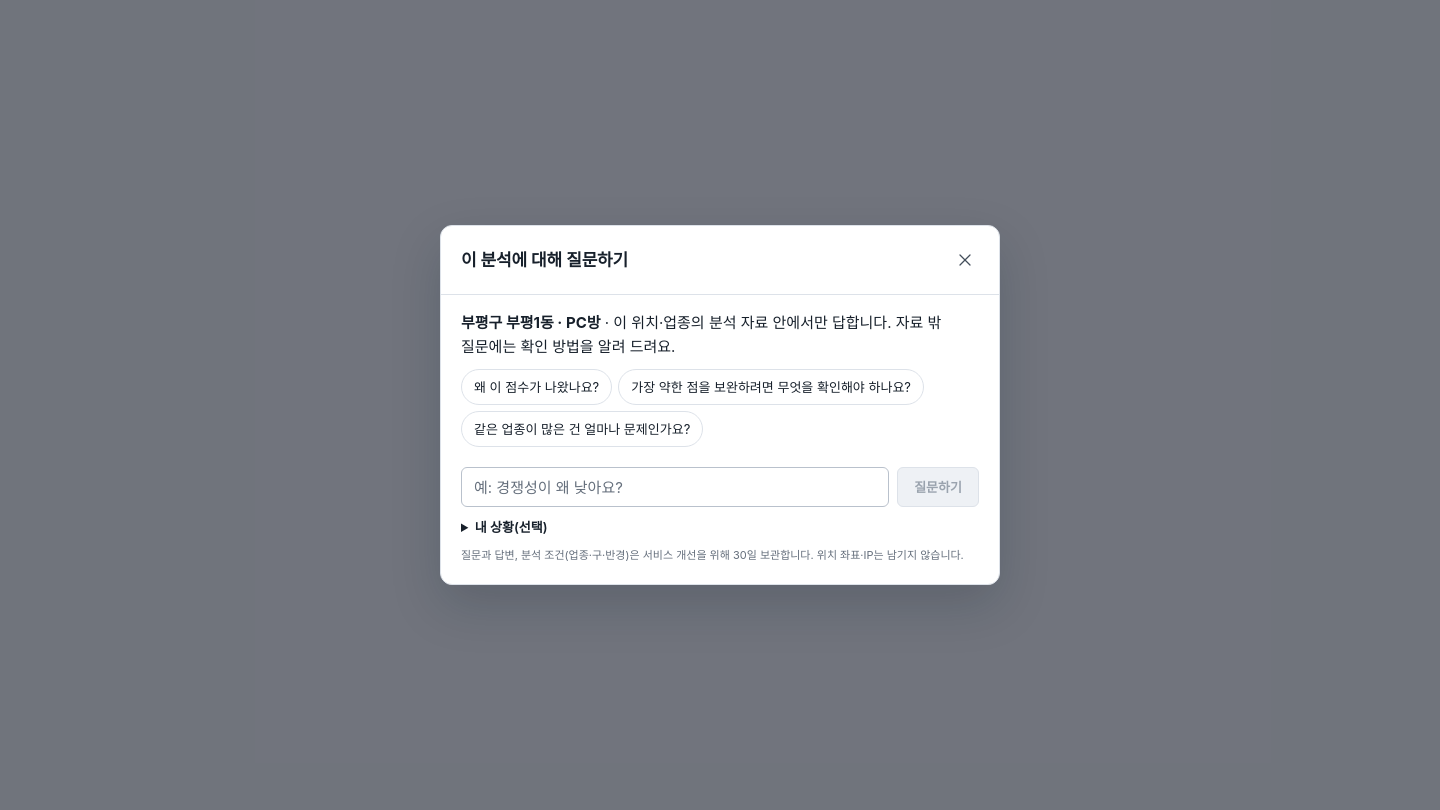
AskDialog — AI 자유 질문 (R2 13-24·13-26) › AI 가 알아낸 프로필은 "저장"을 눌러야 저장되고, 다음 질문부터 함께 보낸다
Type "저는 30살 예비 창업자예요" into the field named "질문" at (675, 487), box [461,467,889,507]
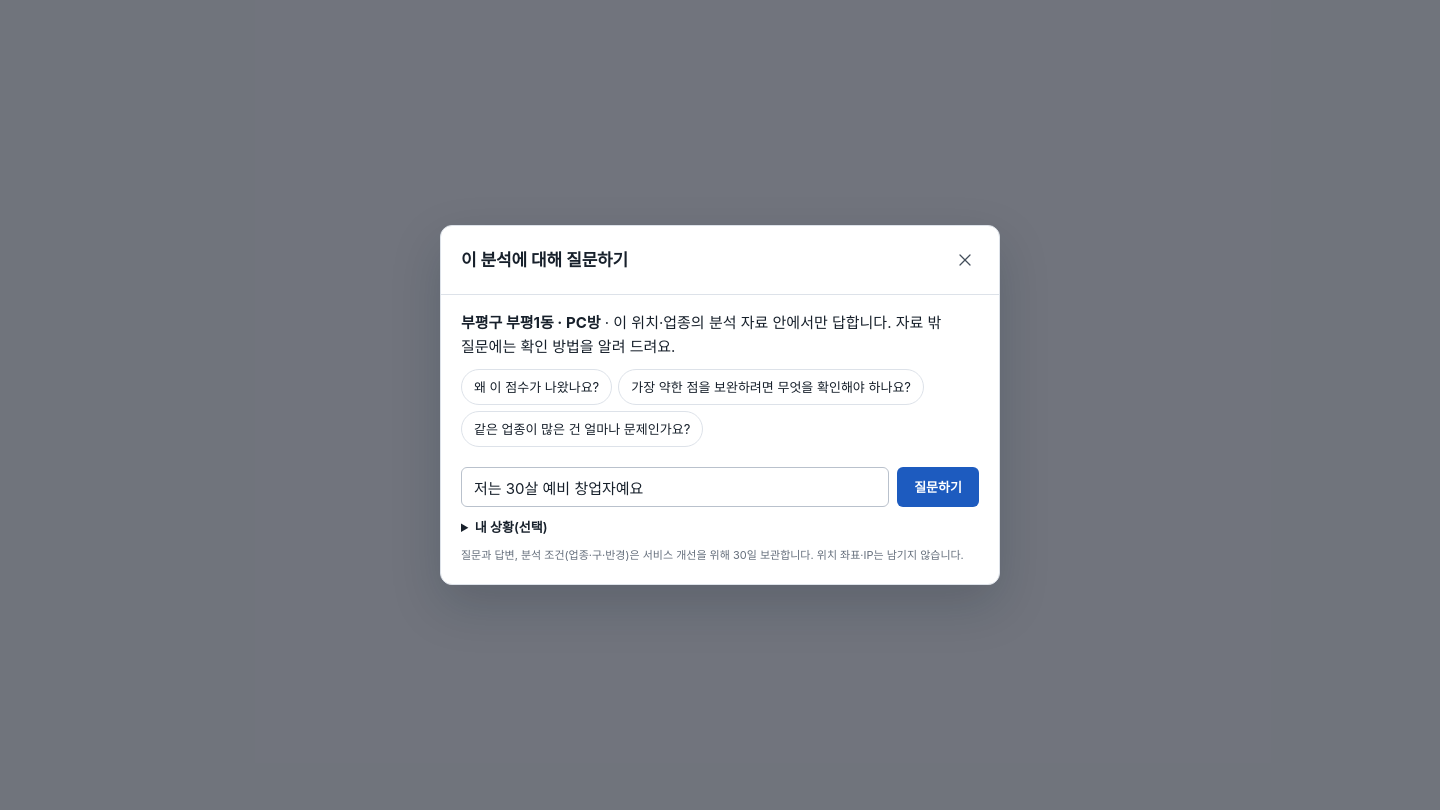
Click the button "질문하기" at (938, 487), box [897,467,979,507]
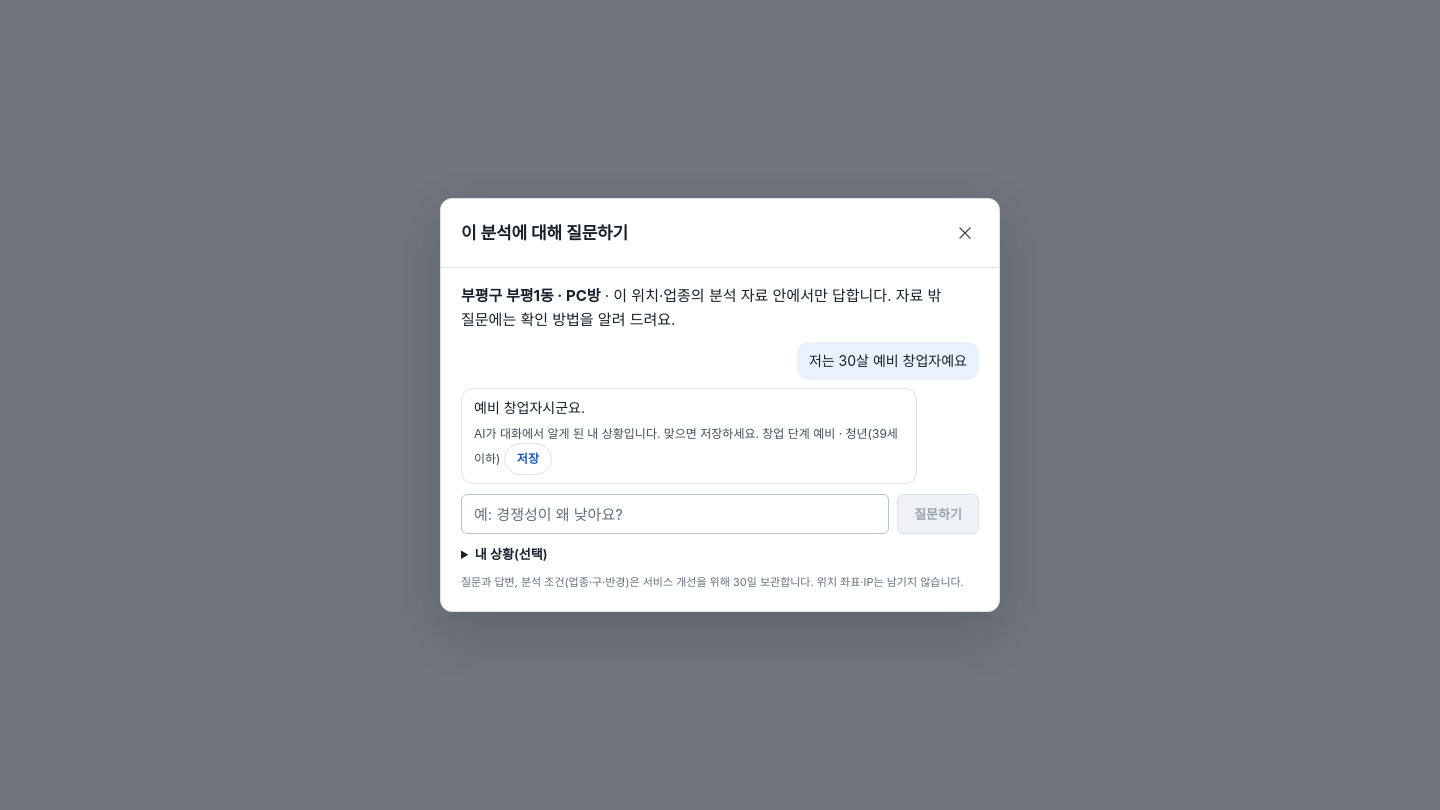
expect the text "AI가 대화에서 알게 된 내 상황입니다. 맞으면 저장하세요. 창업 단계 예비 · 청년(39세 이하) 저장" is shown: met, box [474,425,904,475]
Click the button "저장" at (528, 459), box [504,443,552,475]
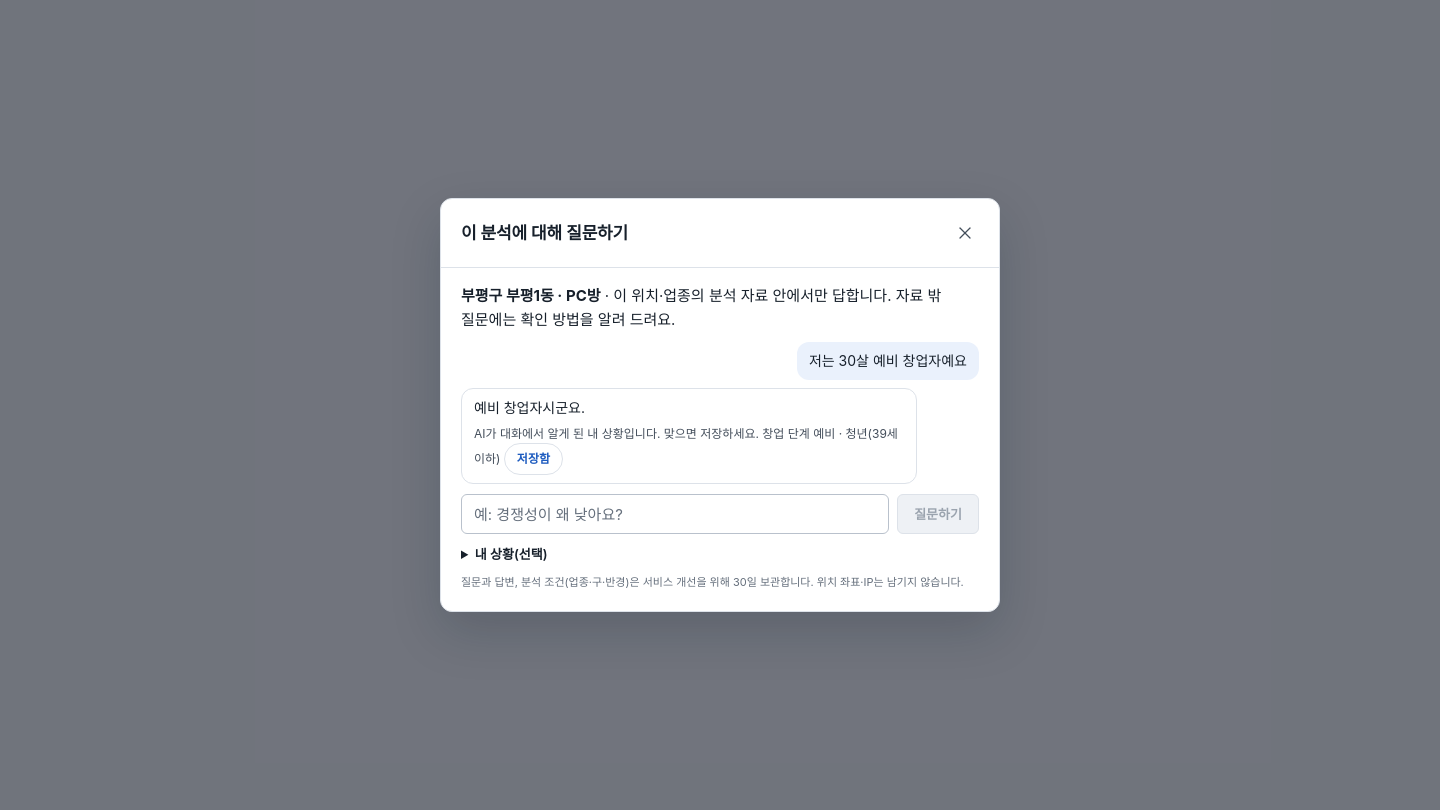
Type "다음 질문" into the field named "질문" at (675, 514), box [461,494,889,534]
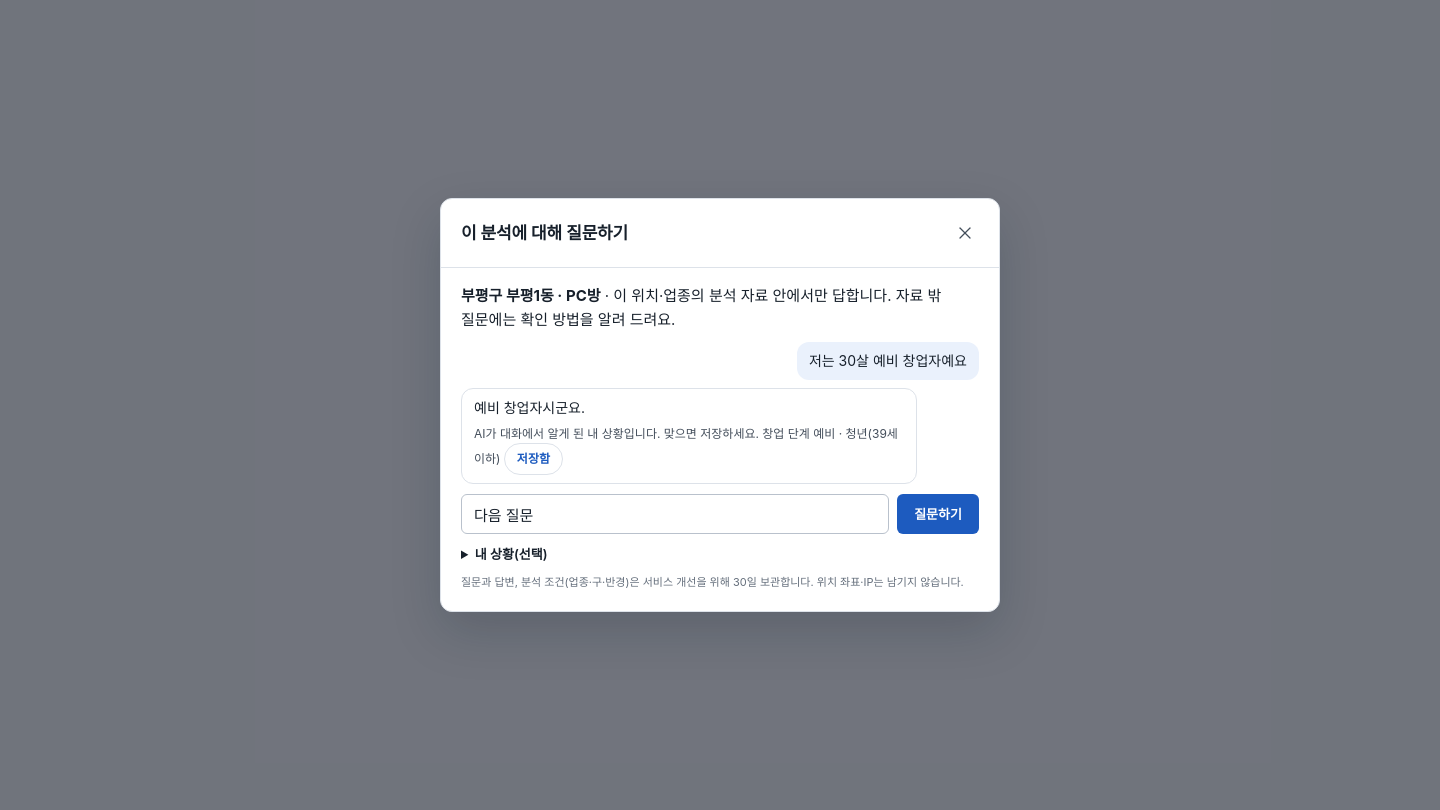
Click the button "질문하기" at (938, 514), box [897,494,979,534]
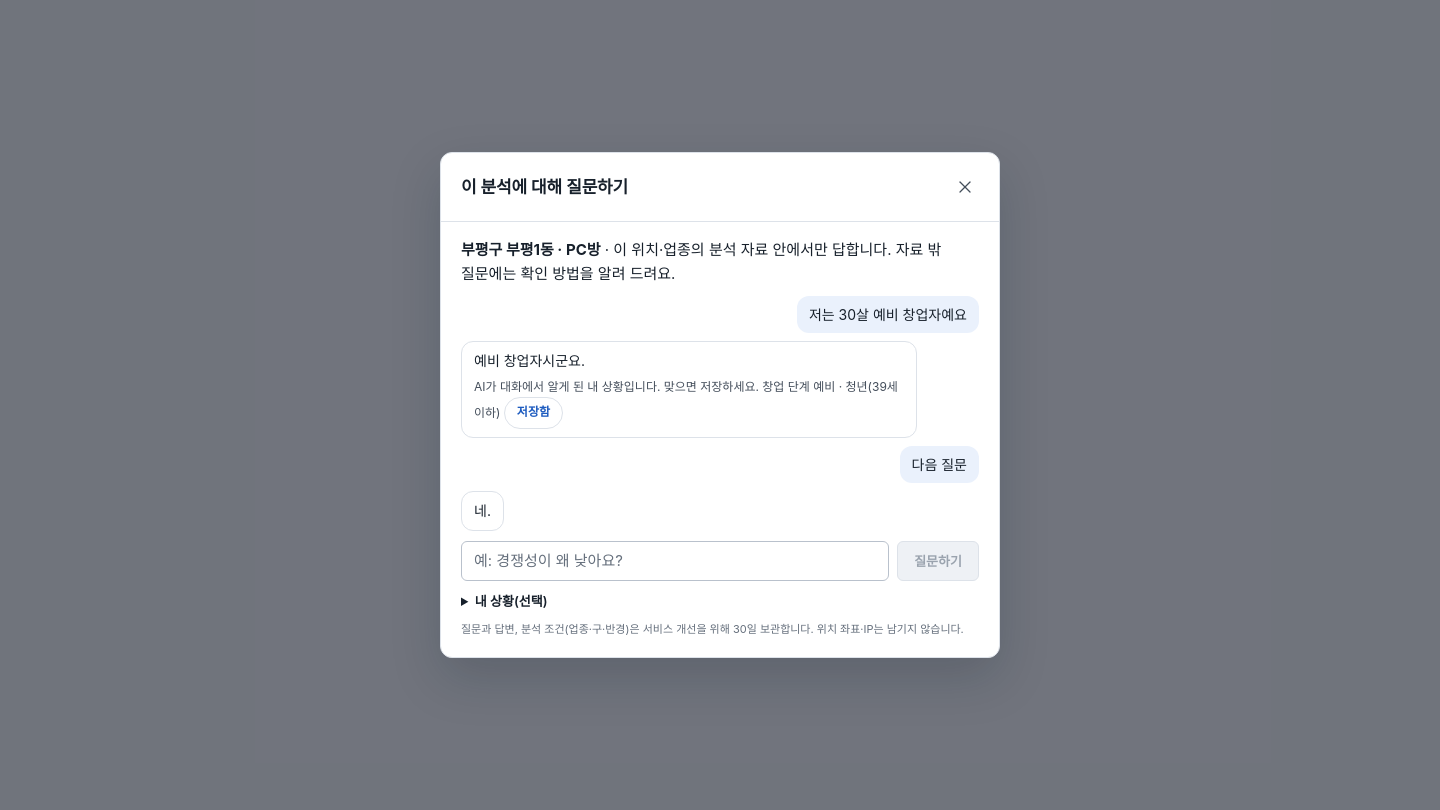
expect the list item "네." is shown: met, box [461,491,504,531]
